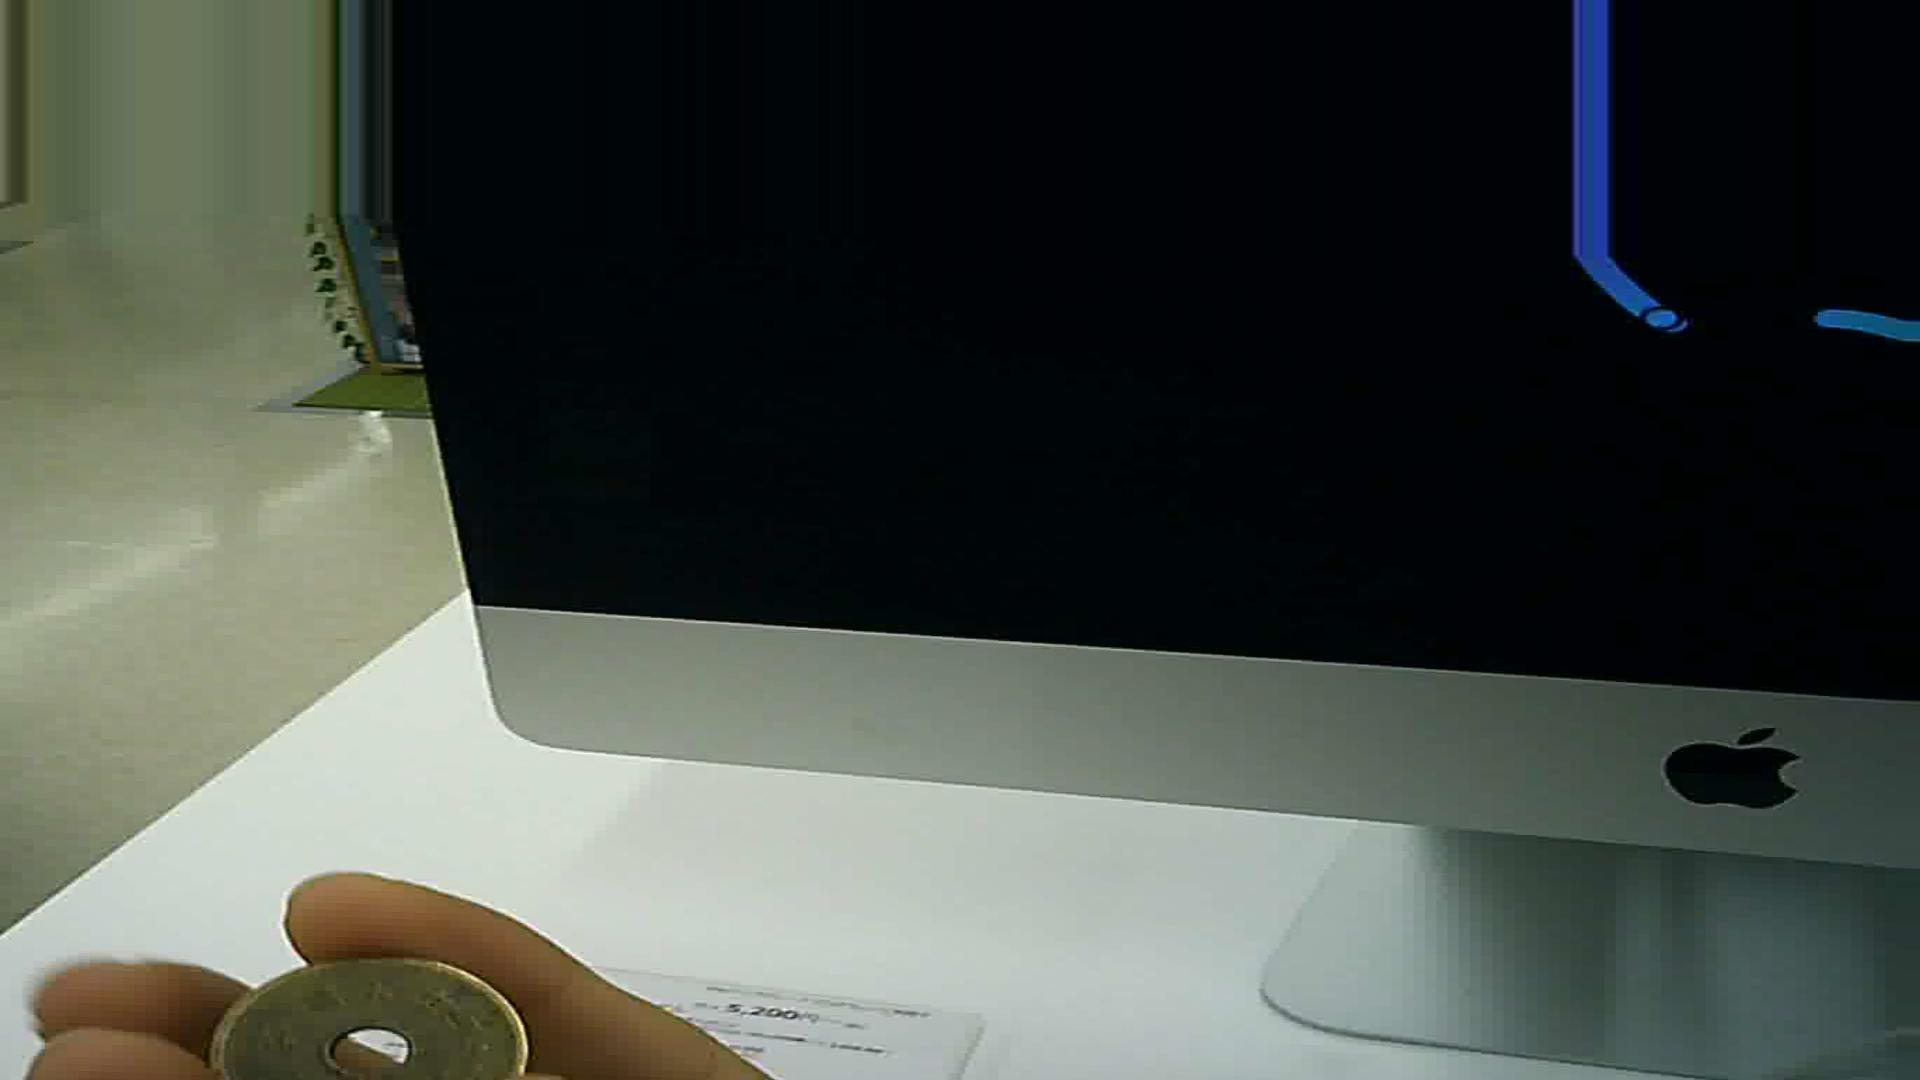5 Yen: (174, 940, 535, 1063)
